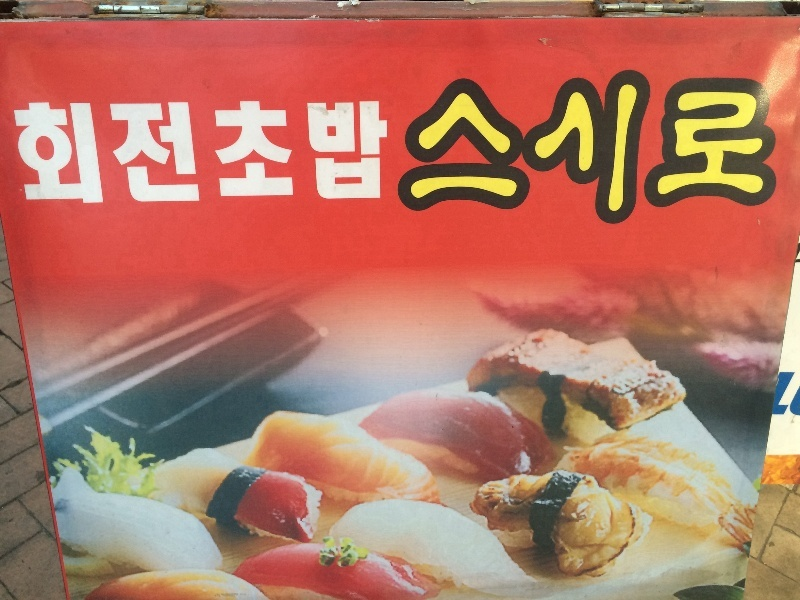text: (753, 83, 769, 223), (417, 83, 432, 223), (433, 83, 448, 223), (449, 83, 464, 223), (465, 83, 480, 223), (481, 83, 496, 223), (497, 83, 512, 223), (513, 83, 528, 223), (529, 83, 544, 223), (545, 83, 560, 223), (561, 83, 576, 223), (577, 83, 592, 223), (593, 83, 608, 223), (609, 83, 624, 223), (625, 83, 640, 223), (641, 83, 656, 223), (657, 83, 672, 223), (673, 83, 688, 223), (689, 83, 704, 223), (705, 83, 720, 223), (721, 83, 736, 223), (737, 83, 752, 223), (17, 95, 32, 209), (33, 95, 48, 209), (49, 95, 64, 209), (65, 95, 80, 209), (81, 95, 96, 209), (97, 95, 112, 209), (113, 95, 128, 209), (129, 95, 144, 209), (145, 95, 160, 209), (161, 95, 176, 209), (177, 95, 192, 209), (193, 95, 208, 209), (209, 95, 224, 209), (225, 95, 240, 209), (241, 95, 256, 209), (257, 95, 272, 209), (273, 95, 288, 209), (289, 95, 304, 209), (305, 95, 320, 209), (321, 95, 336, 209), (337, 95, 352, 209), (353, 95, 368, 209), (369, 95, 384, 209), (385, 95, 390, 209), (12, 95, 16, 209)
